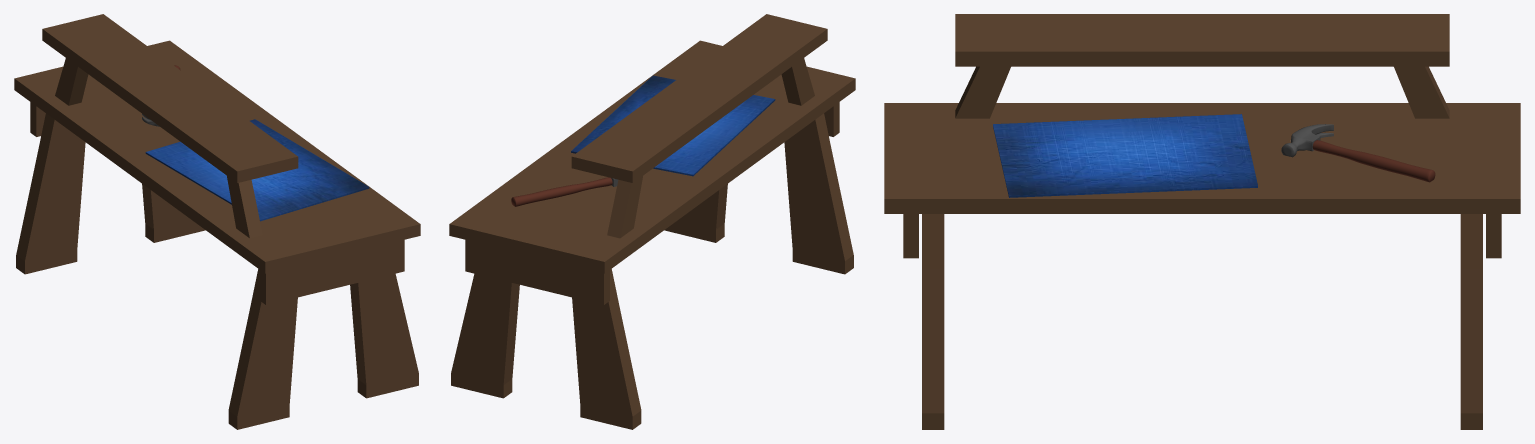
File: workbench.glb
3 views of the same model, side by side, from view 1: azimuth 30°, elevation 25°; view 2: azimuth 150°, elevation 25°; view 3: azimuth 270°, elevation 25° (orthographic). The views are drawn at different scales.
Visible parts, largest first — view 1: Cube, Plane; view 2: Cube, Plane, striker; view 3: Cube, Plane, striker.
Boxes of the visible parts, bbox=[...] form: Cube: bbox=[14, 14, 420, 429]; Plane: bbox=[145, 119, 369, 221]; Cube: bbox=[449, 14, 855, 429]; Plane: bbox=[571, 75, 775, 176]; striker: bbox=[511, 177, 618, 206]; Cube: bbox=[884, 14, 1520, 429]; Plane: bbox=[993, 114, 1257, 197]; striker: bbox=[1281, 124, 1435, 182].
Bounding box in the file's own units: 1.14 × 1.47 × 2.73.
4 materials, 1 textured.
